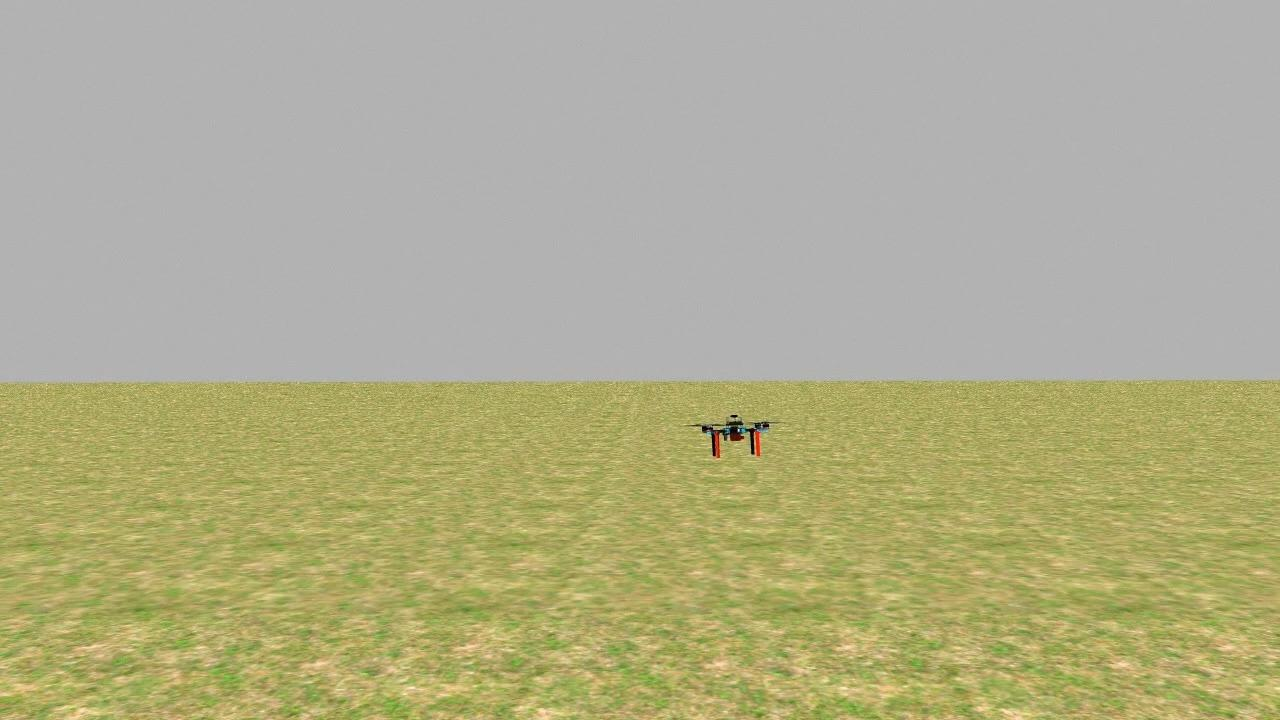UAV: (679, 398, 794, 473)
